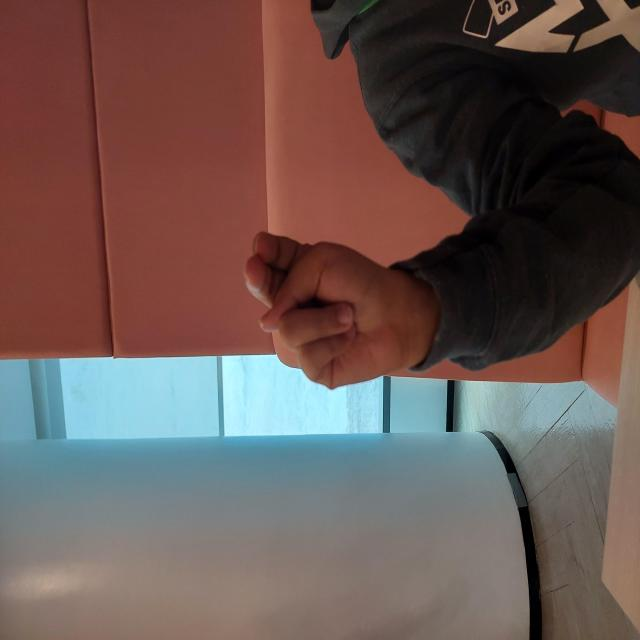N: (246, 237, 414, 428)
